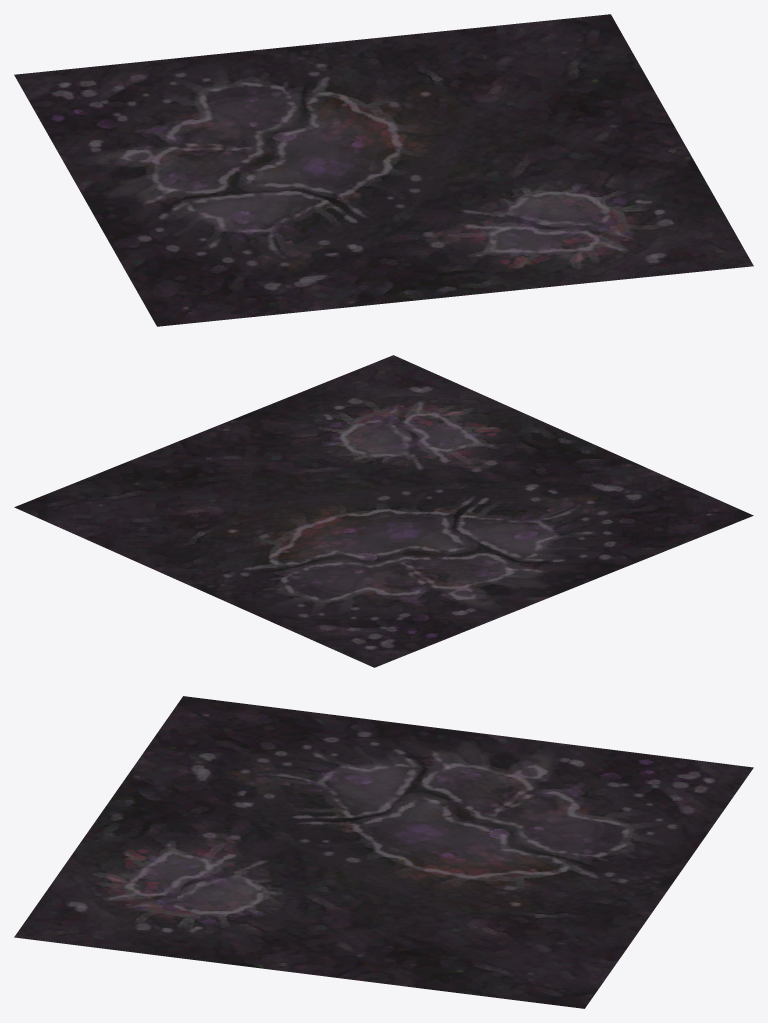
The model's file is cave_floor_mushrooms_28.fbx.
3 views of the same model, one above another, from view 1: azimuth 30°, elevation 25°; view 2: azimuth 150°, elevation 25°; view 3: azimuth 270°, elevation 25° (orthographic). The views are drawn at different scales.
Visible parts, largest first — view 1: cave_tileset/Floormushrooms_04_mat; view 2: cave_tileset/Floormushrooms_04_mat; view 3: cave_tileset/Floormushrooms_04_mat.
Boxes of the visible parts, bbox=[...] form: cave_tileset/Floormushrooms_04_mat: bbox=[14, 14, 753, 326]; cave_tileset/Floormushrooms_04_mat: bbox=[14, 355, 753, 667]; cave_tileset/Floormushrooms_04_mat: bbox=[14, 696, 753, 1008].
Bounding box in the file's own units: 4.07 × 0 × 4.07.
